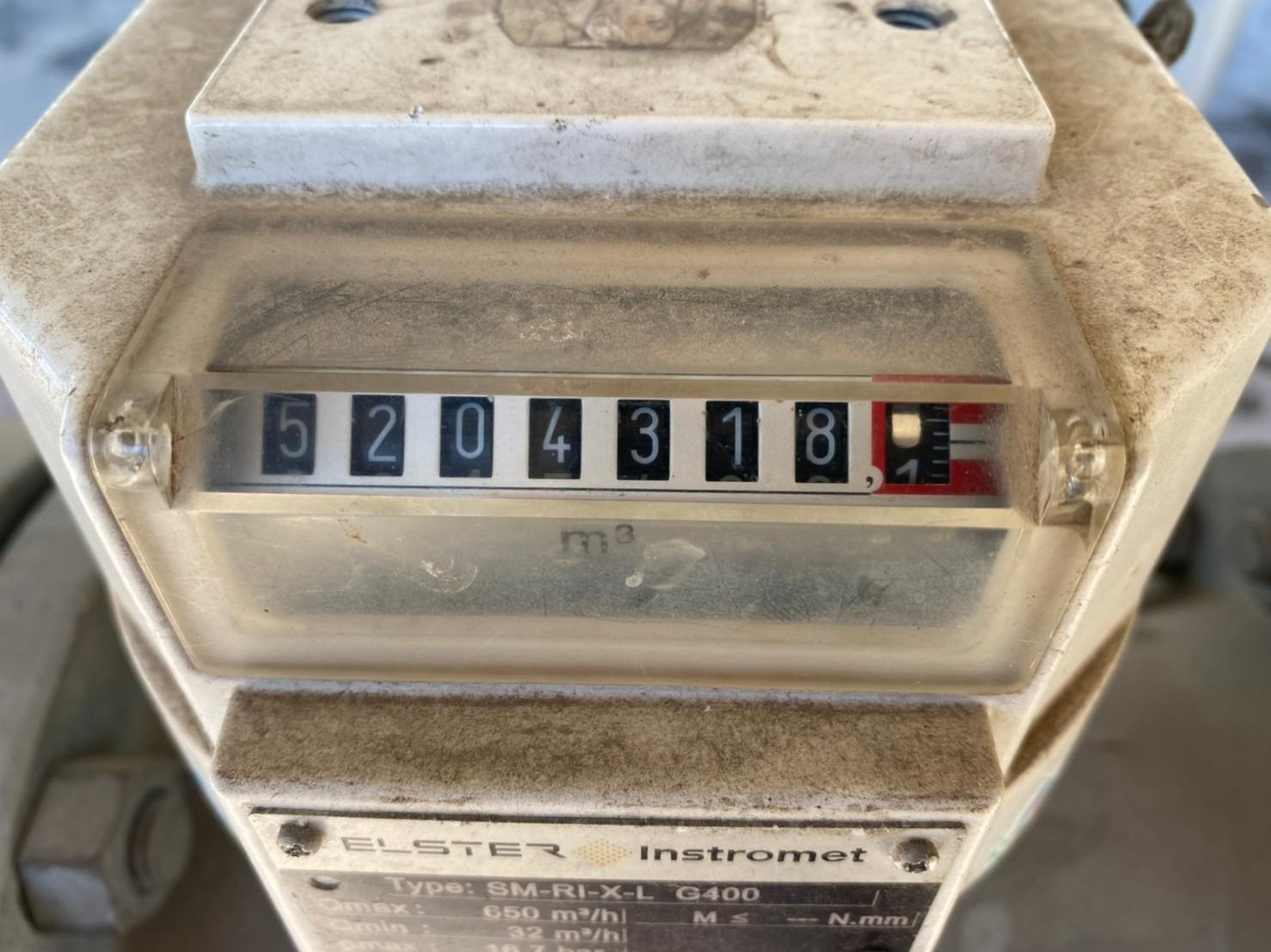analog_dial: (201, 386, 1013, 508)
